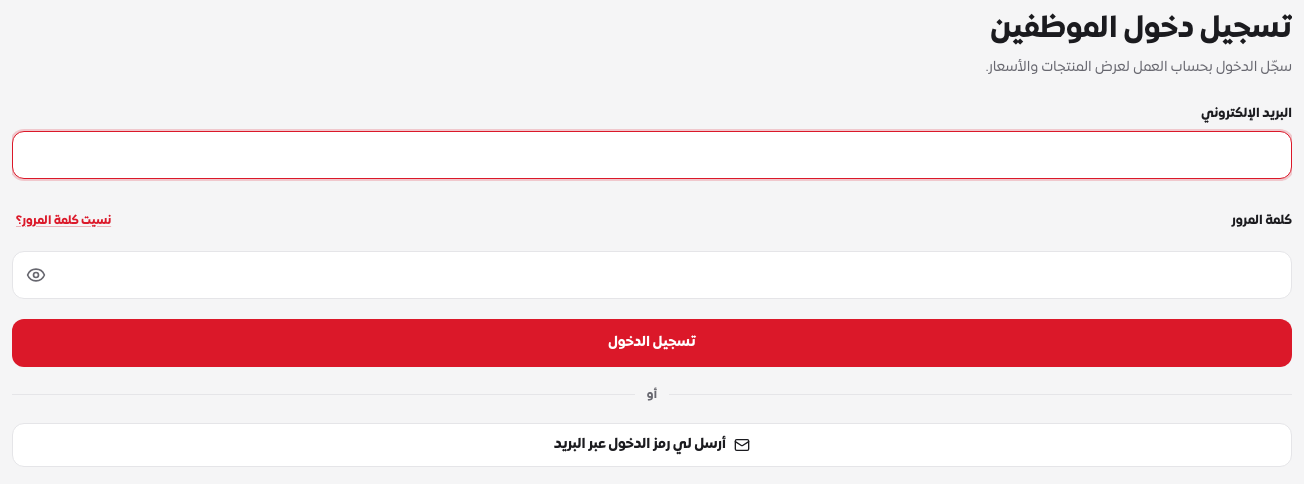
Test: SignInForm (custom Clerk flow) › signs in with e-mail and password and goes to the remembered destination
Expected: the heading "تسجيل دخول الموظفين" is shown, [990,12,1292,47]
In the field labelled "البريد الإلكتروني": point(652, 155) [12,131,1292,179], type "staff@alisnad.iq"
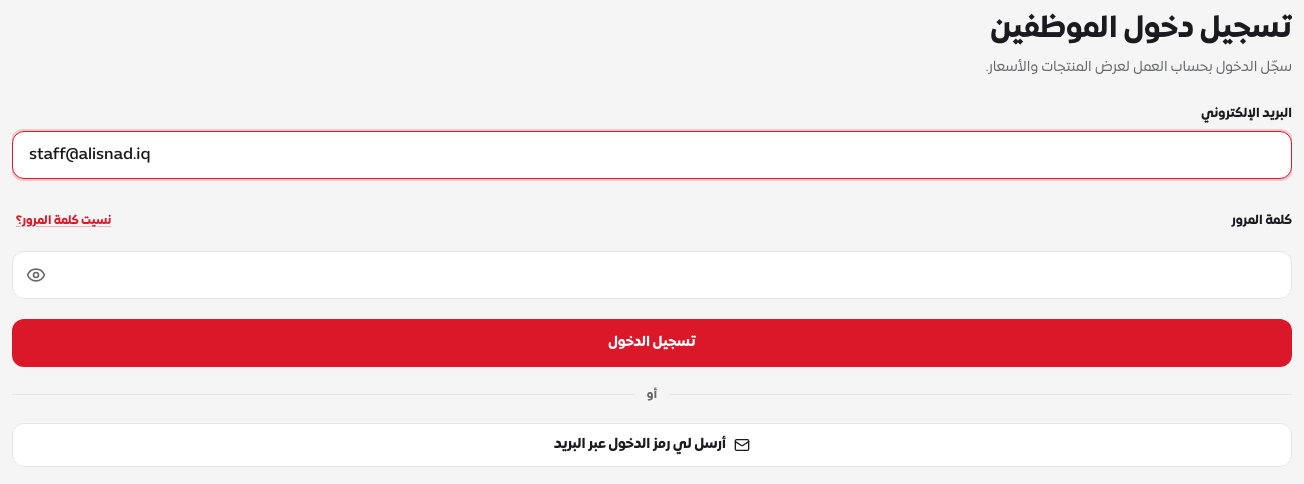
In the password field labelled "كلمة المرور": point(652, 275) [12,251,1292,299], type "secret-pass"
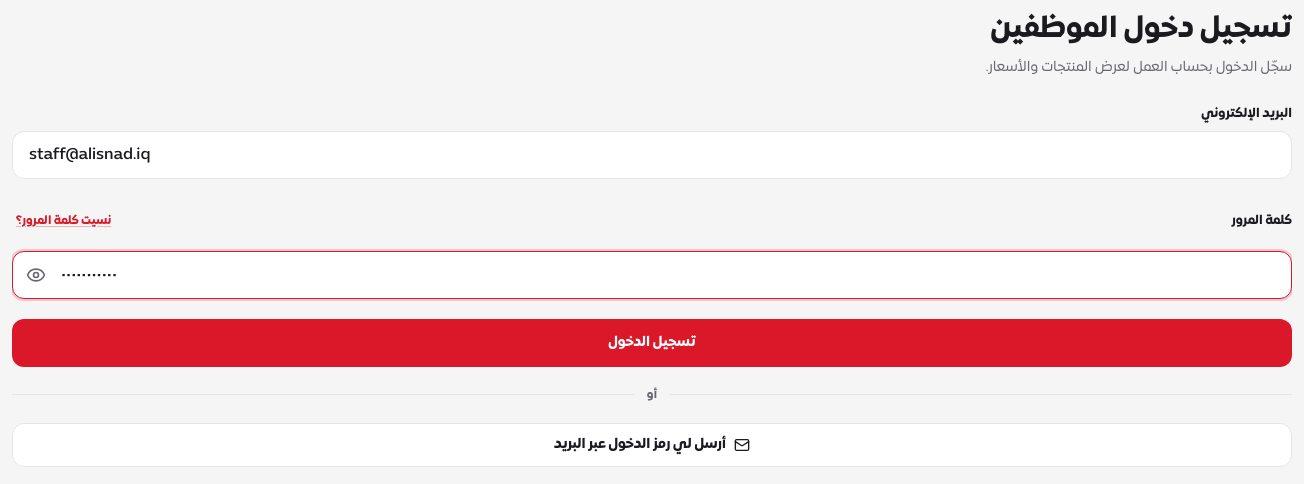
Click the button "تسجيل الدخول": point(652, 343) [12,319,1292,367]
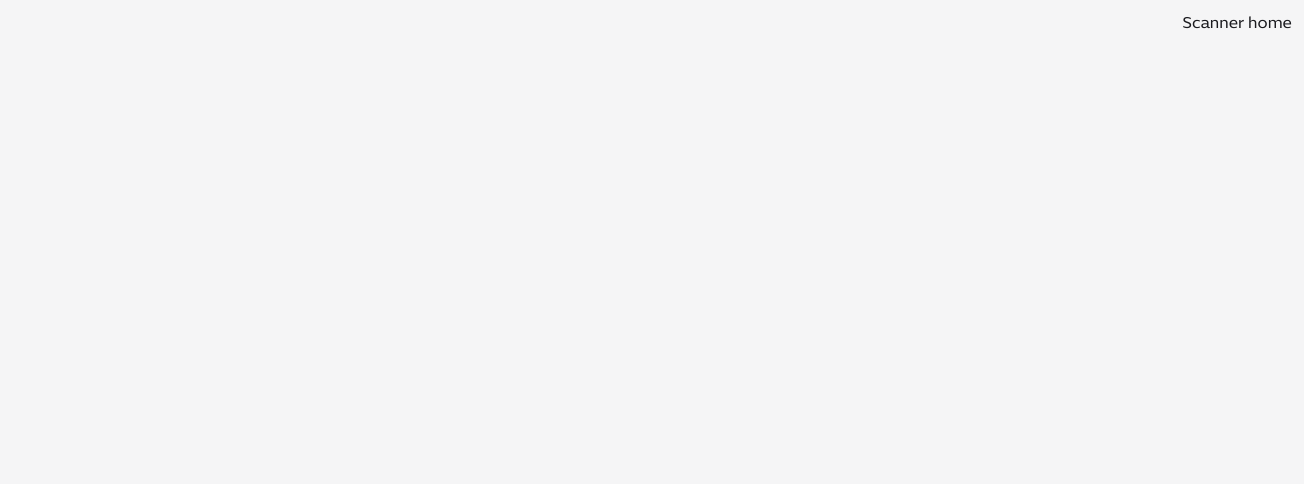
Expected: the text "Scanner home" is shown, [1182,14,1292,34]
